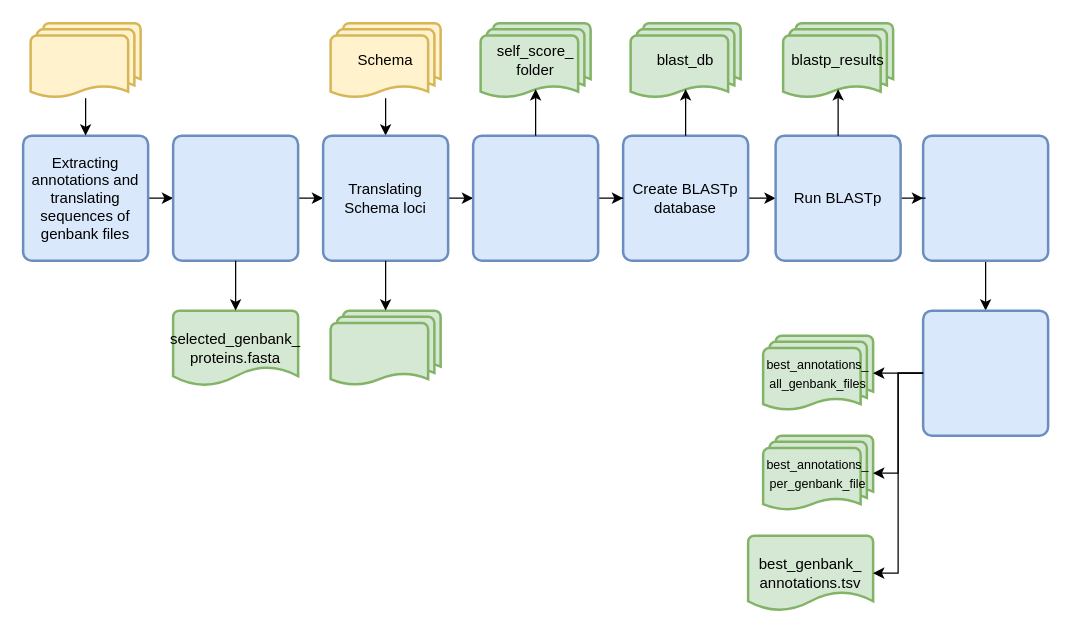
The diagram is 1070 pixels wide and 633 high, and some of its shapes have lost their labels. Here are the shapes that lost their labels. From the top down, the box of each, then its label:
(29, 21, 141, 99): Genbank files
(171, 134, 299, 261): Clustering by minimizers
(471, 134, 599, 261): Calculate self-score
(921, 134, 1049, 261): Extracting best annotation for each input files and overall
(329, 309, 441, 386): reps_ translations
(921, 309, 1049, 436): Write Results
